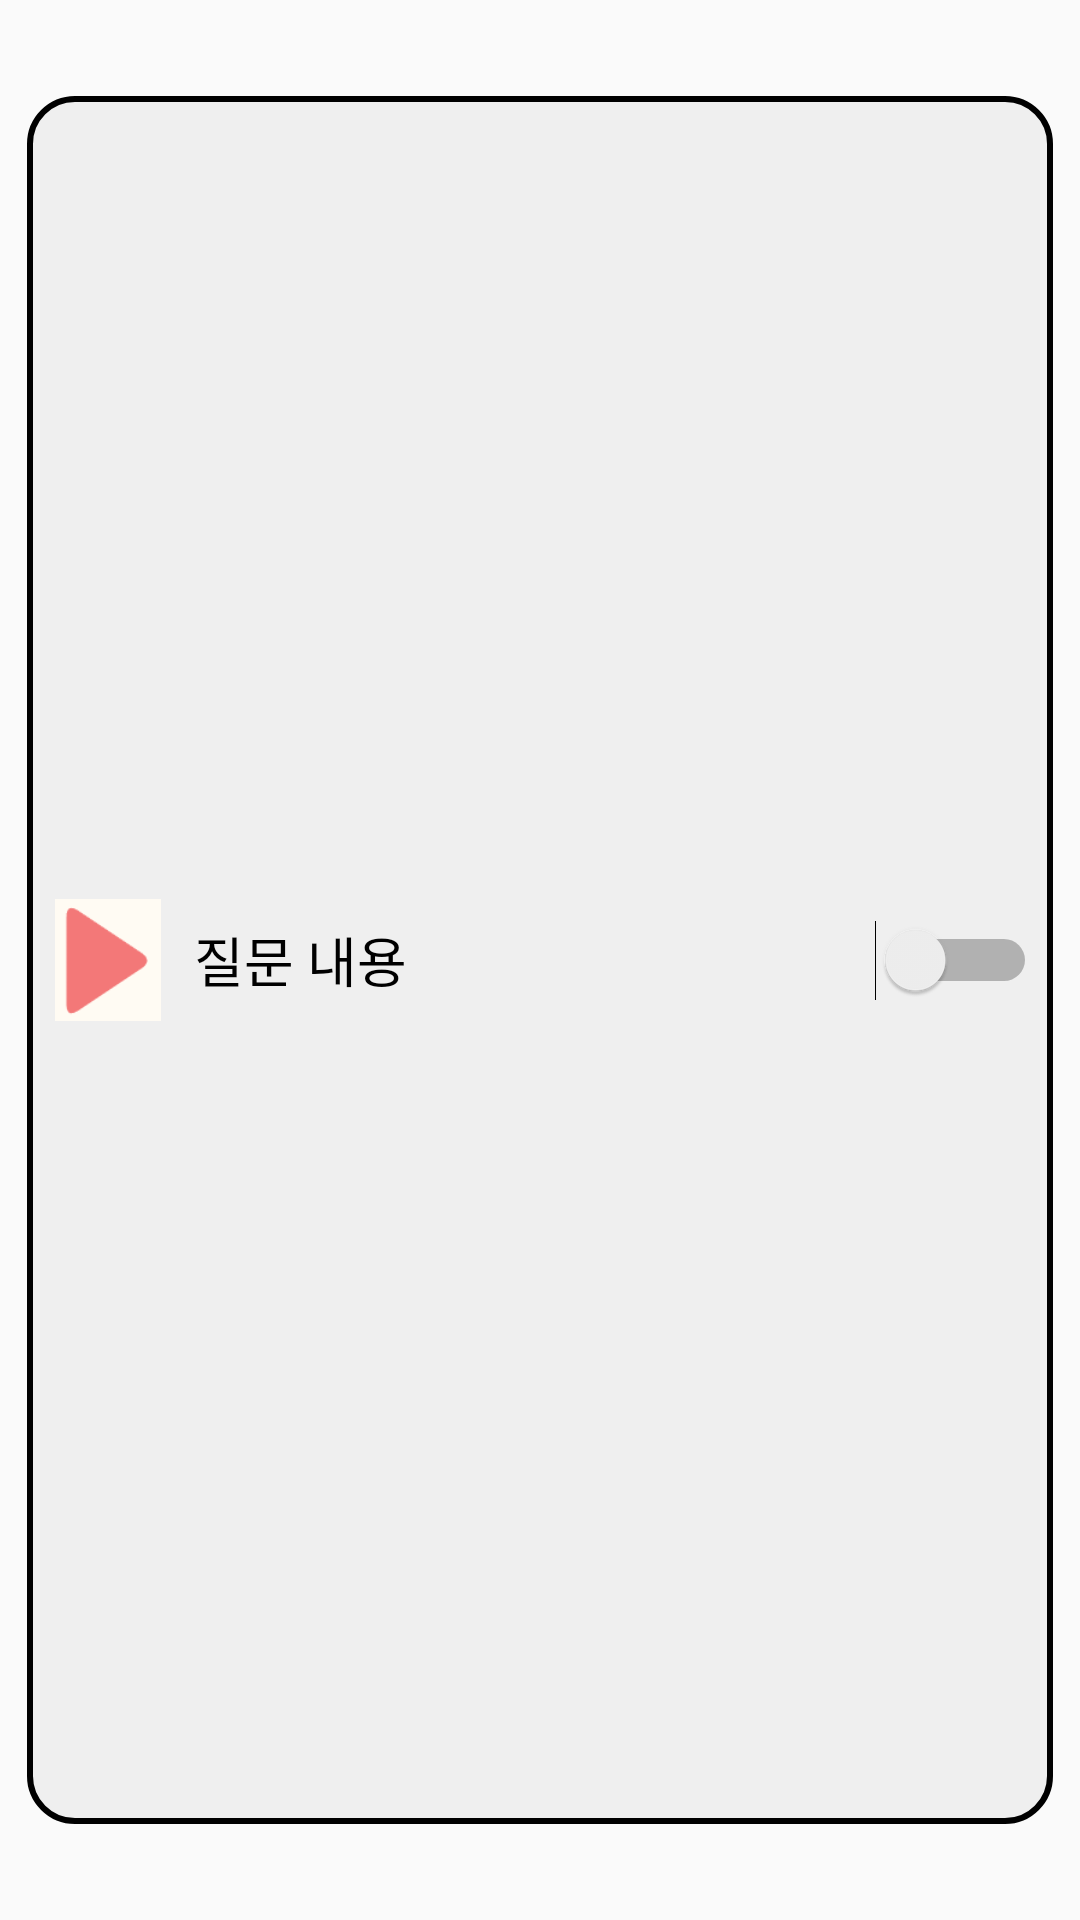

Where icons sit on this 1080 x 1920 app screen, as (x1, y1, x2, y2):
playbtn: (66, 908, 148, 1014)
